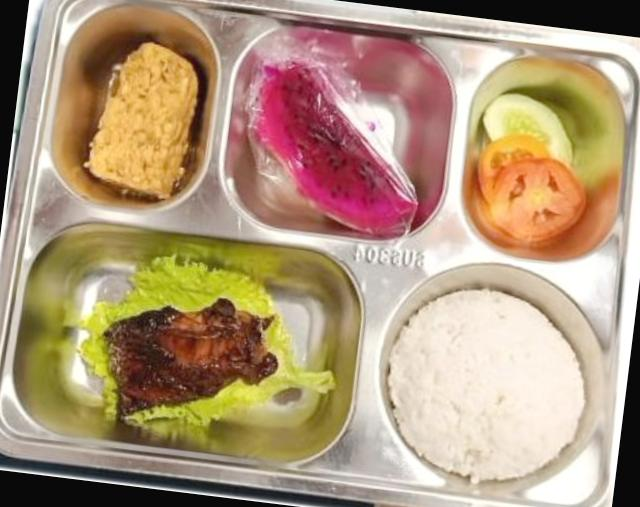ayam: (103, 298, 277, 416)
buah: (249, 59, 416, 235)
nasi: (386, 290, 583, 482)
sayur: (478, 94, 584, 243)
tempe: (51, 6, 217, 207)
